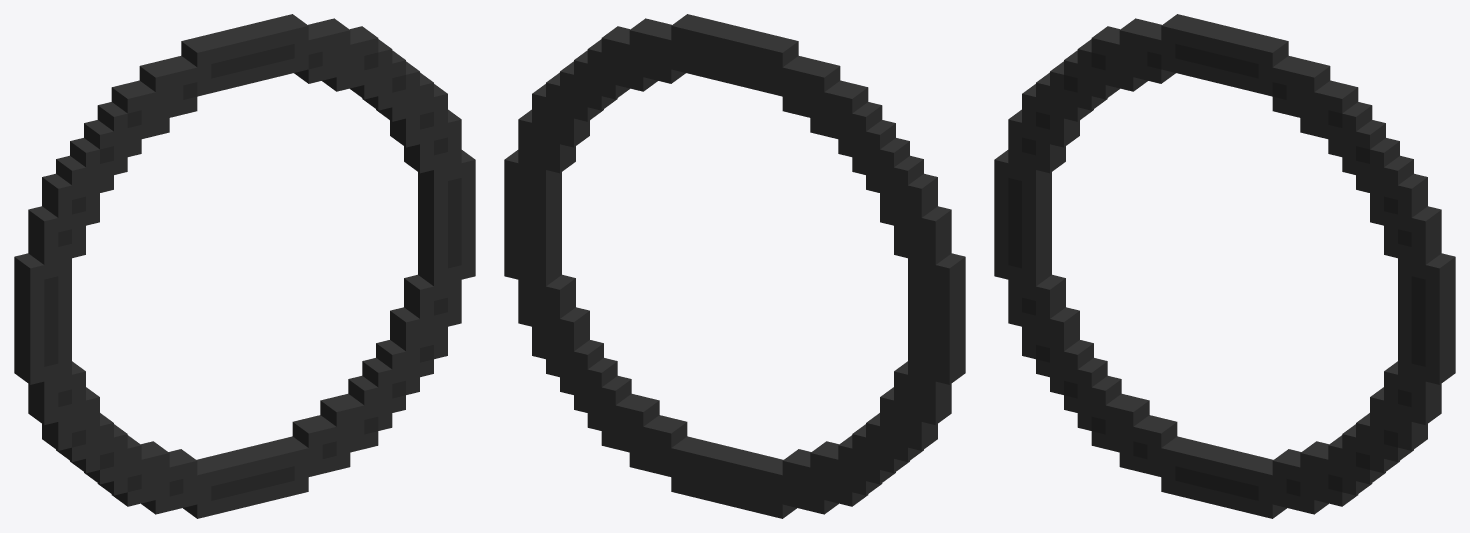
Rendered from portal_normal-0.obj.
3 renders of one model, left to right at view 1: azimuth 30°, elevation 25°; view 2: azimuth 150°, elevation 25°; view 3: azimuth 330°, elevation 25°, orthographic.
Size of the model in its own units: 12.8 by 12.8 by 0.8.
1 material, 1 textured.
